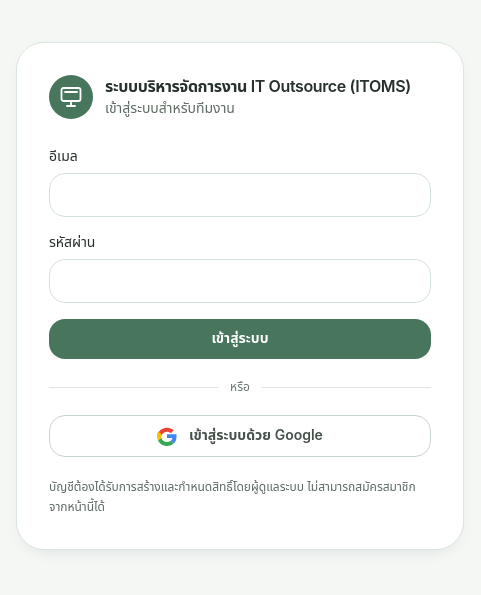
it: SignInForm › submits credentials and surfaces a safe authentication error
In the field labelled "อีเมล": point(240, 195) [49,173,431,217], type "user@example.test"
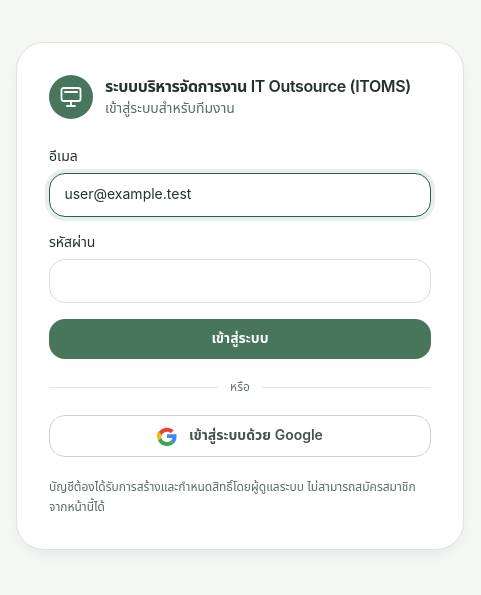
In the password field labelled "รหัสผ่าน": point(240, 281) [49,259,431,303], type "not-a-real-password"
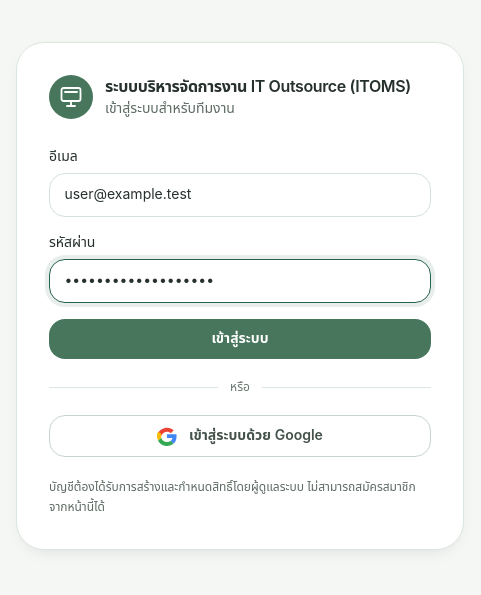
Click the button "เข้าสู่ระบบ": point(240, 339) [49,319,431,359]
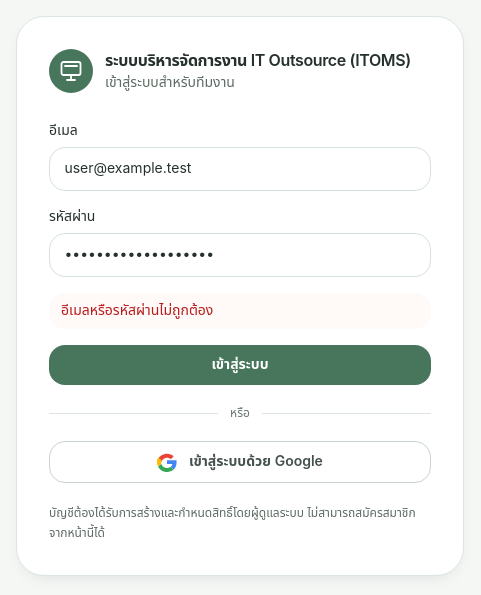
Check: the message reads "อีเมลหรือรหัสผ่านไม่ถูกต้อง", box [61,300,213,321]
